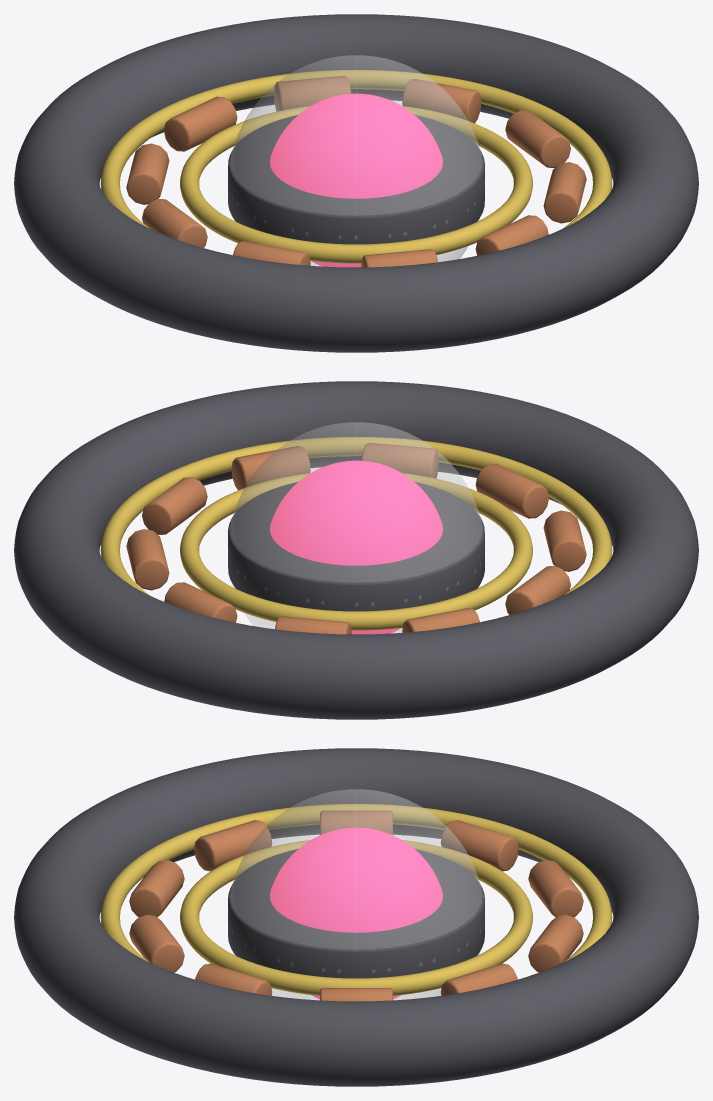
Rendered from reactor.glb.
3 views of the same model, one above another, from view 1: azimuth 30°, elevation 25°; view 2: azimuth 150°, elevation 25°; view 3: azimuth 270°, elevation 25° (orthographic).
Visible parts, largest first — view 1: Torus, Sphere.001, Cylinder.010, Sphere, Torus.002, Torus.001, Cylinder.003, Cylinder, Cylinder.001, Cylinder.009, Cylinder.004, Cylinder.002 (+4 smaller); view 2: Torus, Sphere.001, Cylinder.010, Sphere, Torus.002, Torus.001, Cylinder.007, Cylinder, Cylinder.009, Cylinder.001, Cylinder.006, Cylinder.008 (+4 smaller); view 3: Torus, Sphere.001, Cylinder.010, Sphere, Torus.002, Torus.001, Cylinder.004, Cylinder.006, Cylinder.003, Cylinder.007, Cylinder.002, Cylinder.008 (+4 smaller).
Boxes of the visible parts, x1,y1,x2,y2 form: Torus: [14, 14, 698, 352]; Sphere.001: [230, 55, 482, 267]; Cylinder.010: [228, 115, 484, 244]; Sphere: [270, 93, 442, 267]; Torus.002: [180, 106, 532, 263]; Torus.001: [100, 70, 612, 228]; Cylinder.003: [164, 96, 237, 151]; Cylinder: [505, 110, 570, 167]; Cylinder.001: [402, 79, 481, 123]; Cylinder.009: [543, 162, 586, 223]; Cylinder.004: [126, 143, 169, 204]; Cylinder.002: [274, 76, 351, 111]; Torus: [14, 381, 698, 719]; Sphere.001: [230, 422, 482, 633]; Cylinder.010: [228, 482, 484, 611]; Sphere: [270, 460, 442, 634]; Torus.002: [180, 473, 532, 630]; Torus.001: [100, 437, 612, 595]; Cylinder.007: [475, 463, 548, 518]; Cylinder: [142, 477, 207, 534]; Cylinder.009: [231, 446, 310, 490]; Cylinder.001: [126, 529, 169, 590]; Cylinder.006: [543, 510, 586, 571]; Cylinder.008: [361, 443, 438, 478]; Torus: [14, 748, 698, 1086]; Sphere.001: [229, 789, 483, 999]; Cylinder.010: [228, 849, 484, 978]; Sphere: [270, 827, 442, 999]; Torus.002: [180, 840, 532, 995]; Torus.001: [100, 804, 612, 962]; Cylinder.004: [441, 820, 518, 871]; Cylinder.006: [194, 820, 271, 871]; Cylinder.003: [528, 860, 583, 917]; Cylinder.007: [129, 860, 184, 917]; Cylinder.002: [528, 914, 583, 972]; Cylinder.008: [129, 914, 184, 972].
Bounding box in the file's own units: 3.2 × 1.2 × 3.2.
